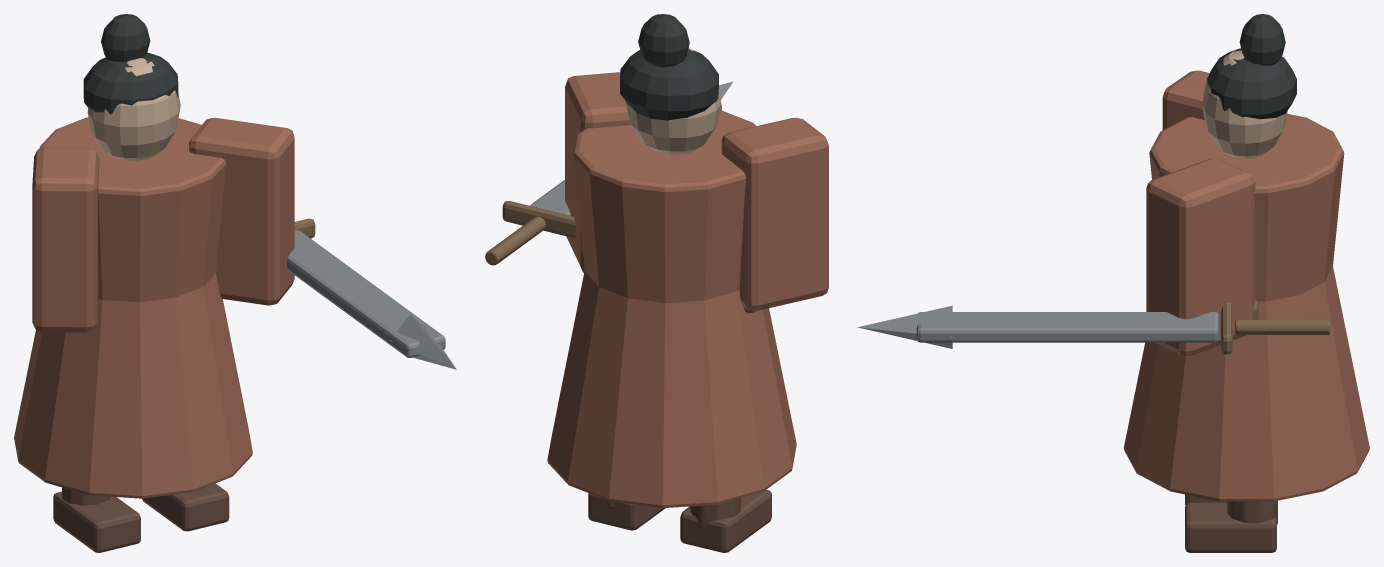
The model's file is chr_enemy_melee_qi_a.glb.
The picture shows the model from 3 angles, left to right: view 1: azimuth 30°, elevation 25°; view 2: azimuth 150°, elevation 25°; view 3: azimuth 270°, elevation 25°; orthographic projection. The views are drawn at different scales.
Visible parts, largest first — view 1: melee_robe_lower, melee_torso, melee_sleeve_r, melee_sleeve_l, melee_broad_blade_blade, melee_head, melee_hair_cap, melee_leg_l_boot, melee_leg_r_boot, melee_hair_bun, melee_broad_blade_tip; view 2: melee_robe_lower, melee_torso, melee_sleeve_l, melee_hair_cap, melee_sleeve_r, melee_leg_l_boot, melee_head, melee_hair_bun, melee_leg_r_boot, melee_broad_blade_guard, melee_broad_blade_grip, melee_leg_l (+1 smaller); view 3: melee_robe_lower, melee_sleeve_r, melee_torso, melee_broad_blade_blade, melee_hair_cap, melee_leg_r_boot, melee_head, melee_hair_bun, melee_sleeve_l, melee_broad_blade_tip, melee_broad_blade_grip, melee_leg_r.
Part boxes in pixels (x1,y1,x2,y2): melee_robe_lower: (14,273,252,498); melee_torso: (39,117,226,302); melee_sleeve_r: (189,117,294,305); melee_sleeve_l: (32,147,99,332); melee_broad_blade_blade: (287,230,445,357); melee_head: (87,58,180,160); melee_hair_cap: (83,52,178,114); melee_leg_l_boot: (53,491,140,552); melee_leg_r_boot: (142,483,229,531); melee_hair_bun: (101,14,150,61); melee_broad_blade_tip: (390,314,456,369); melee_robe_lower: (547,271,796,508); melee_torso: (573,110,755,303); melee_sleeve_l: (721,117,828,310); melee_hair_cap: (620,49,718,120); melee_sleeve_r: (565,72,630,272); melee_leg_l_boot: (680,489,771,552); melee_head: (625,48,721,154); melee_hair_bun: (638,14,689,67); melee_leg_r_boot: (588,493,665,530); melee_broad_blade_guard: (502,201,575,238); melee_broad_blade_grip: (485,216,545,265); melee_leg_l: (689,498,740,530); melee_robe_lower: (1123,267,1369,501); melee_sleeve_r: (1146,158,1255,356); melee_torso: (1149,113,1344,301); melee_broad_blade_blade: (916,312,1218,342); melee_hair_cap: (1207,48,1296,119); melee_leg_r_boot: (1185,502,1276,552); melee_head: (1202,50,1287,158); melee_hair_bun: (1239,14,1285,65); melee_sleeve_l: (1162,70,1209,129); melee_broad_blade_tip: (858,305,952,348); melee_broad_blade_grip: (1235,319,1330,334); melee_leg_r: (1227,500,1277,524).
Size of the model in its own units: 1.21 by 1.93 by 1.78.
